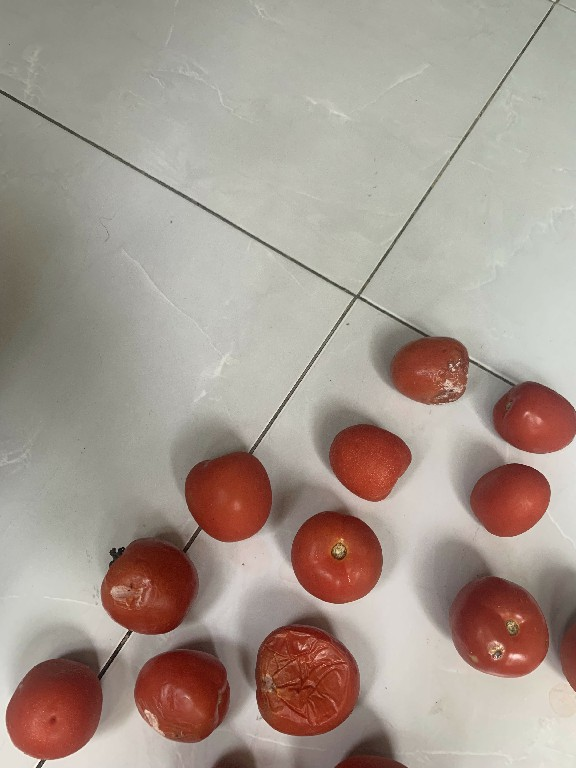NG: (248, 619, 362, 740), (442, 570, 553, 686), (130, 643, 234, 744), (96, 535, 198, 637), (383, 328, 472, 409)
OK: (0, 650, 108, 760), (285, 509, 383, 604), (179, 446, 272, 542), (324, 422, 413, 504), (467, 458, 554, 541), (492, 375, 573, 457)
